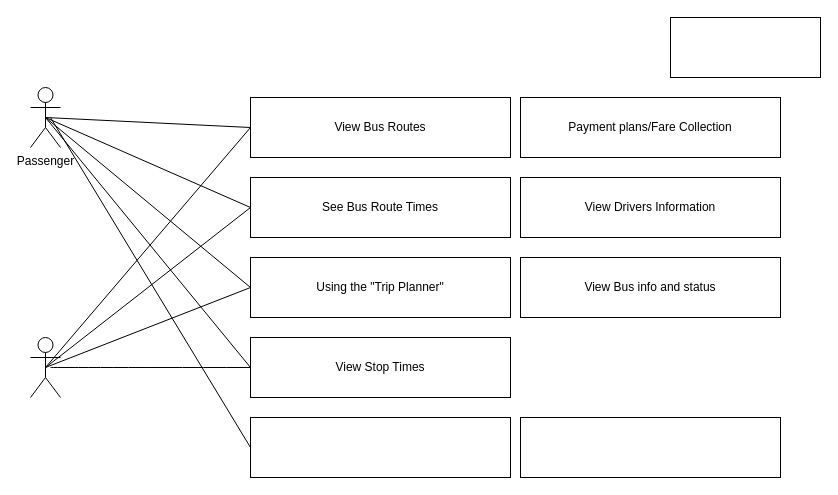
This 838x495 diagram has some shape labels left out. Here are the shapes that lost their labels. From the top down, the box of each, then its label:
(670, 16, 820, 78): Bus Transit System UML
(30, 336, 60, 398): Drivers
(250, 416, 510, 478): Vehicle Tracking
